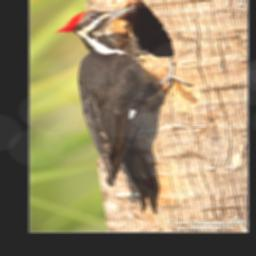Woodpecker: (54, 5, 194, 215)
